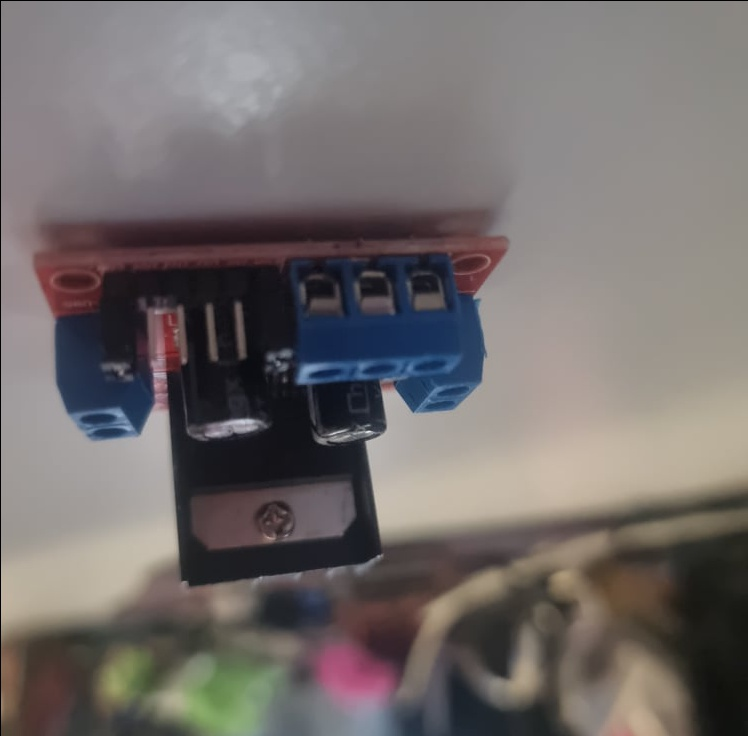MOTOR: (25, 226, 508, 587)
